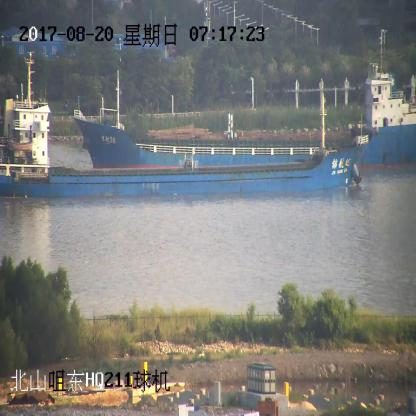Bulk Carrier: (0, 67, 363, 194), (72, 45, 416, 174)
